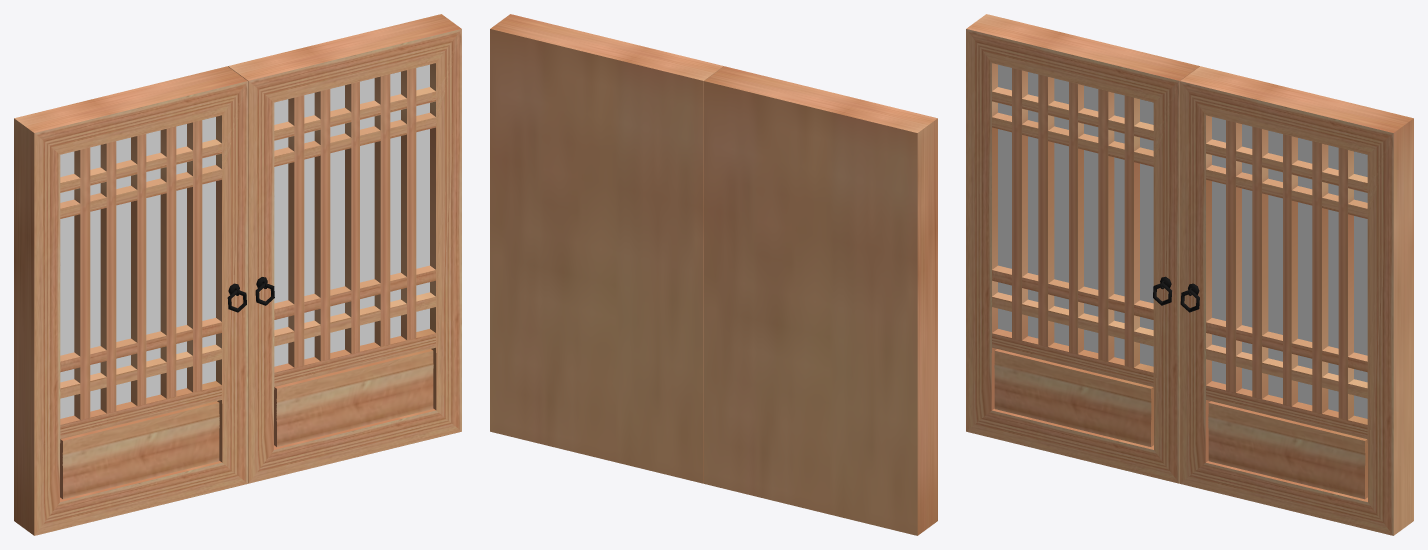
File: Door.fbx
The picture shows the model from 3 angles, left to right: view 1: azimuth 30°, elevation 25°; view 2: azimuth 150°, elevation 25°; view 3: azimuth 330°, elevation 25°; orthographic projection.
Visible parts, largest first — view 1: Cube, Cube.002; view 2: Cube, Cube.002; view 3: Cube.002, Cube.
Boxes of the visible parts, bbox=[...] form: Cube: bbox=[14, 66, 247, 535]; Cube.002: bbox=[228, 14, 461, 483]; Cube: bbox=[704, 66, 937, 535]; Cube.002: bbox=[490, 14, 723, 483]; Cube.002: bbox=[1180, 66, 1413, 535]; Cube: bbox=[966, 14, 1199, 483].
Size of the model in its own units: 2278 by 2051 by 235.
6 materials, 2 textured.
